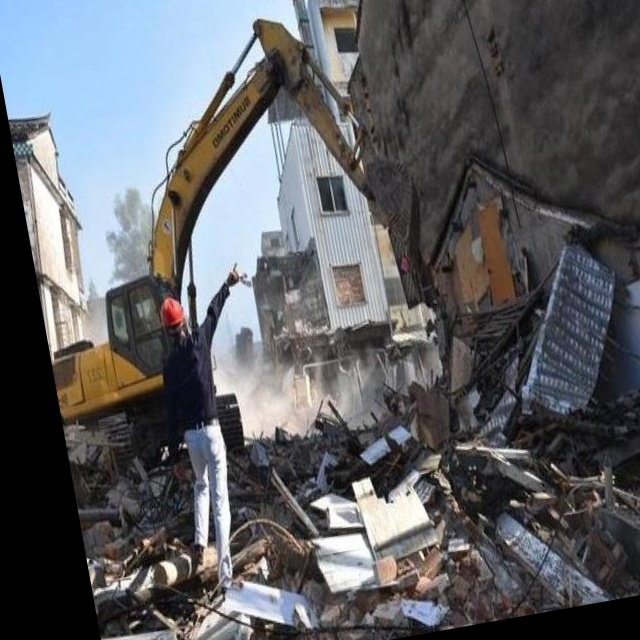Con_Casco: (157, 293, 188, 344)
